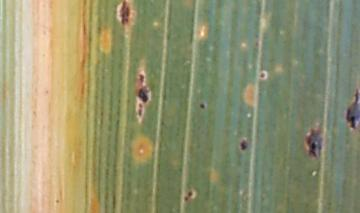tarspot: (305, 127, 323, 159), (346, 90, 360, 128), (118, 1, 131, 25), (138, 85, 150, 104), (240, 139, 248, 152), (137, 104, 144, 118), (138, 73, 146, 84), (197, 101, 206, 110), (182, 195, 190, 202), (259, 71, 266, 79), (187, 190, 193, 197)
